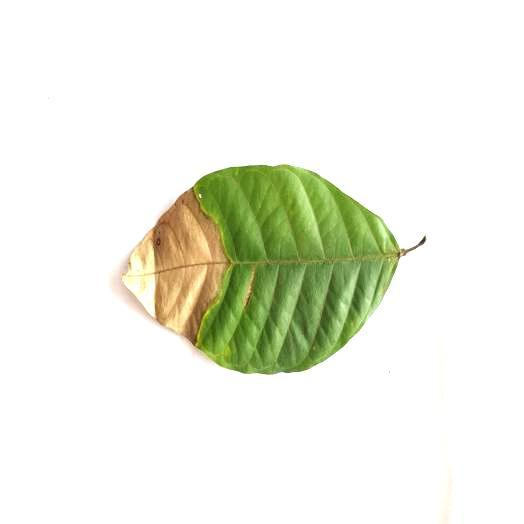Potassium: (123, 165, 411, 373)
